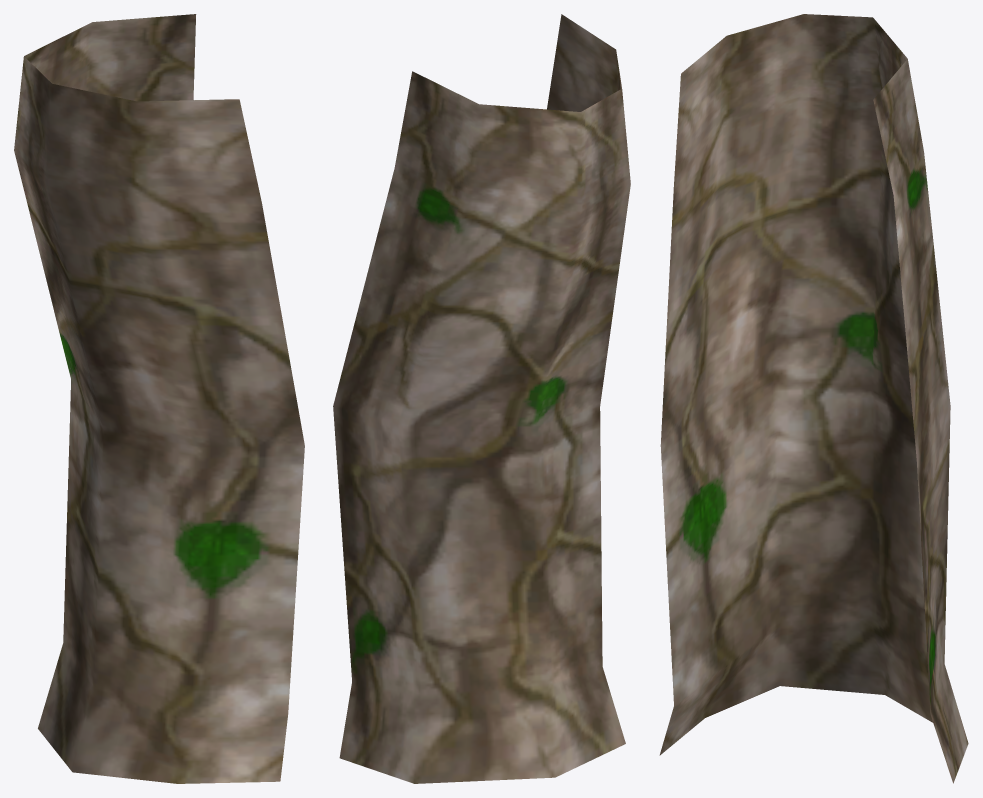
Rendered from EKH_GROTTO_PS_GR_OBJECT22.fbx.
The picture shows the model from 3 angles, left to right: view 1: azimuth 30°, elevation 25°; view 2: azimuth 150°, elevation 25°; view 3: azimuth 270°, elevation 25°; orthographic projection. The views are drawn at different scales.
Parts seen in each view (by area): view 1: EKH_GROTTO_PS_GR_OBJECT22; view 2: EKH_GROTTO_PS_GR_OBJECT22; view 3: EKH_GROTTO_PS_GR_OBJECT22.
Boxes of the visible parts, left/top/right/bottom form: EKH_GROTTO_PS_GR_OBJECT22: left=14, top=14, right=304, bottom=783; EKH_GROTTO_PS_GR_OBJECT22: left=333, top=14, right=630, bottom=783; EKH_GROTTO_PS_GR_OBJECT22: left=659, top=14, right=968, bottom=783.
Size of the model in its own units: 13361 by 35558 by 14910.
Materials: 1 (1 with a texture image).
